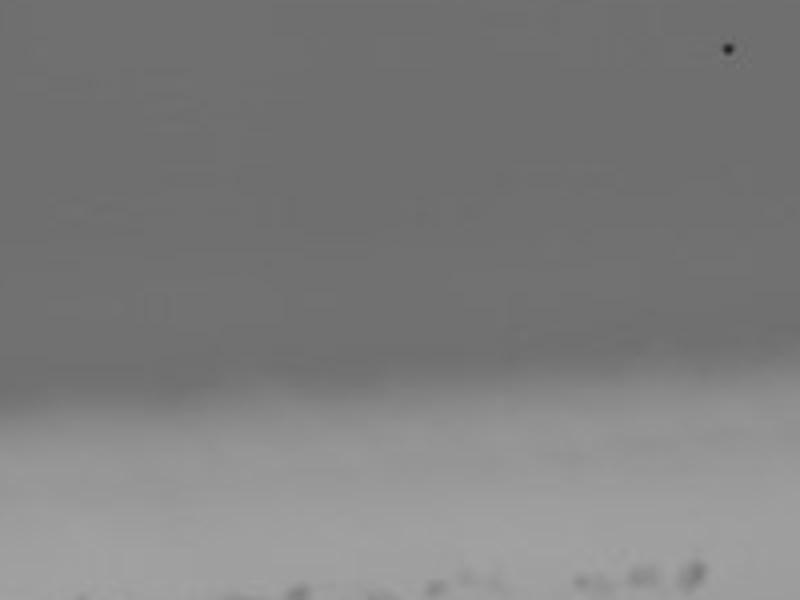defect: (674, 558, 707, 598), (624, 562, 659, 589), (481, 562, 505, 600), (286, 577, 312, 600), (454, 568, 480, 588), (425, 577, 447, 600), (366, 585, 398, 600), (573, 570, 592, 587), (720, 40, 736, 55)
